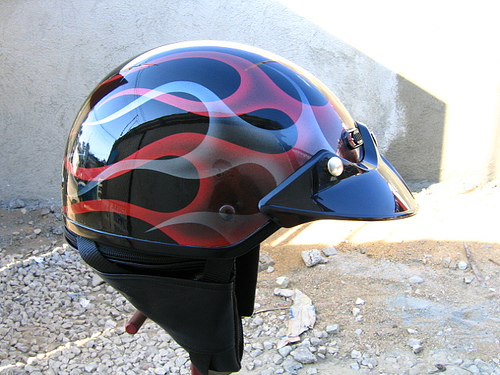helmet: (74, 57, 401, 295)
